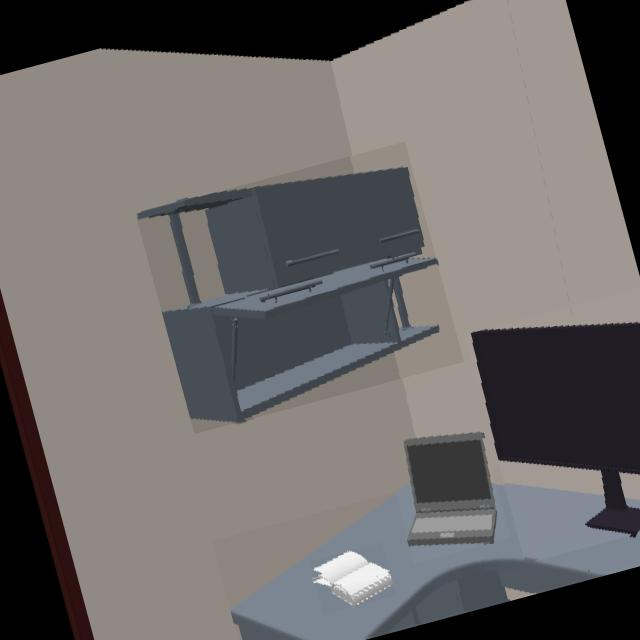book: (315, 550, 393, 606)
cabinet: (141, 169, 439, 420)
laptop: (406, 434, 499, 545)
monitor: (472, 325, 640, 533)
table: (232, 485, 640, 640)
